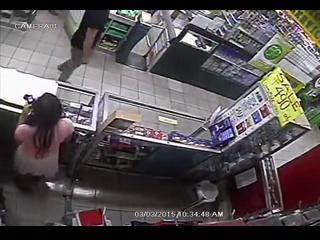Normal: (12, 92, 76, 192), (55, 11, 110, 84)
